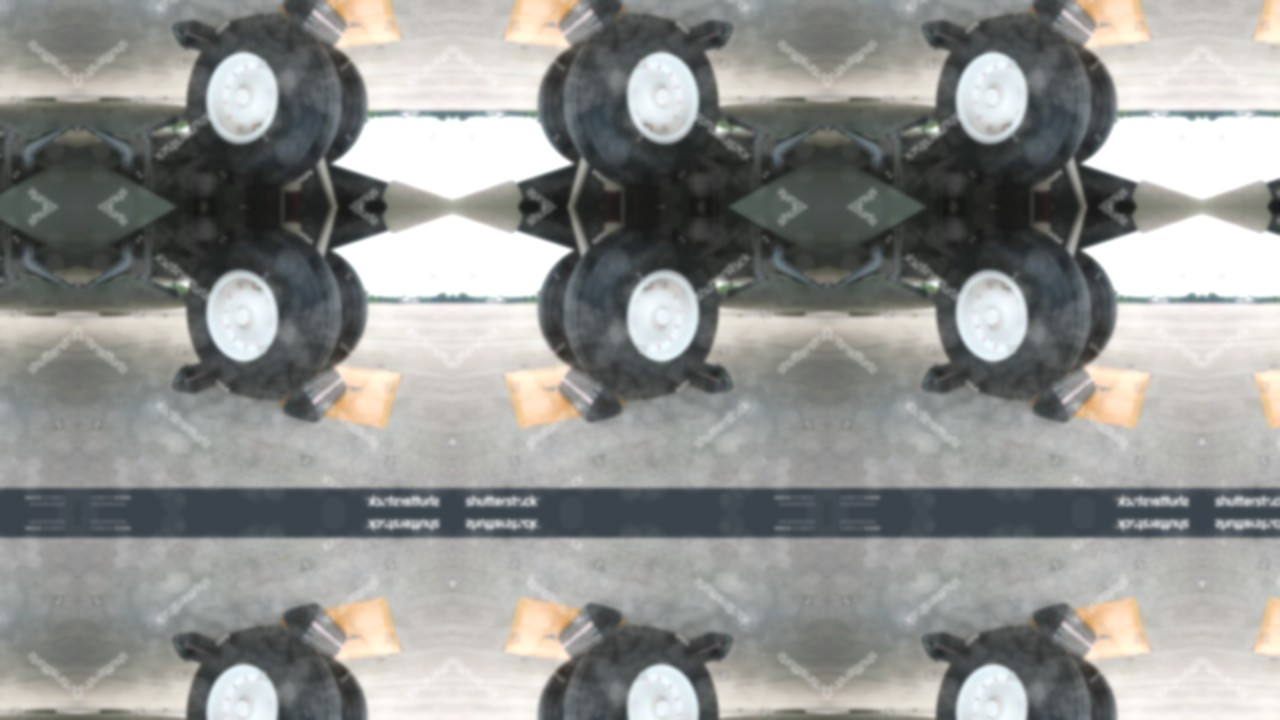chock: (284, 367, 346, 422), (559, 367, 621, 422), (1034, 367, 1096, 422), (284, 604, 346, 659), (559, 604, 621, 659), (1034, 604, 1096, 659), (284, 0, 346, 47), (559, 0, 621, 47), (1034, 0, 1096, 47), (171, 19, 219, 55), (686, 19, 734, 55), (921, 19, 969, 55), (171, 358, 219, 394), (686, 358, 734, 394), (921, 358, 969, 394), (171, 632, 219, 668), (686, 632, 734, 668), (921, 632, 969, 668)
wheel: (570, 225, 711, 399), (944, 225, 1085, 399), (570, 15, 711, 188), (944, 15, 1085, 188), (194, 225, 334, 399), (194, 15, 334, 188), (570, 627, 711, 720), (944, 627, 1085, 720), (194, 627, 334, 720), (318, 43, 369, 165), (536, 43, 587, 165), (1068, 43, 1119, 165), (318, 249, 369, 370), (536, 249, 587, 370), (1068, 249, 1119, 370), (318, 656, 369, 720), (536, 656, 587, 720), (1068, 656, 1119, 720)
